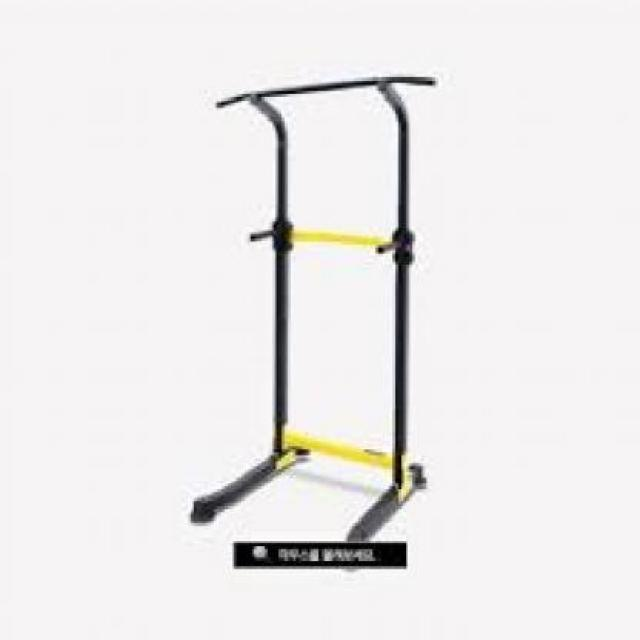chinning dipping: (191, 72, 440, 537)
